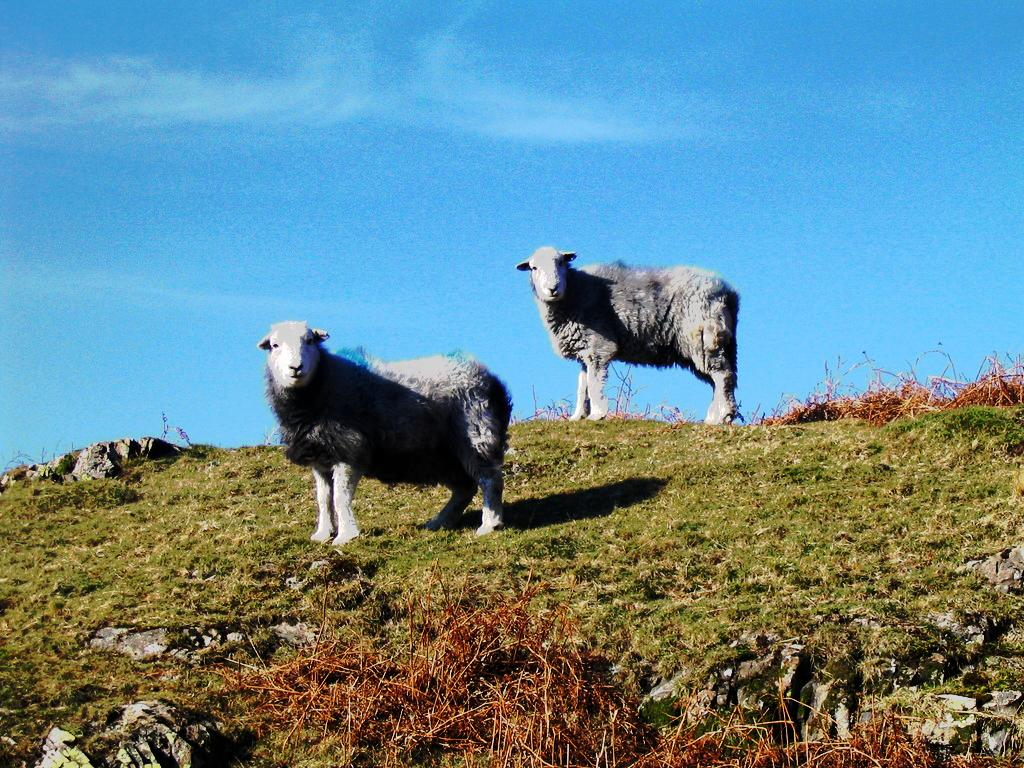Sheep: (250, 320, 518, 546), (516, 246, 746, 427)
